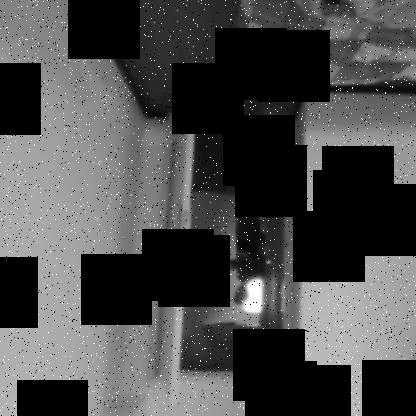Porte: (146, 68, 294, 404)
